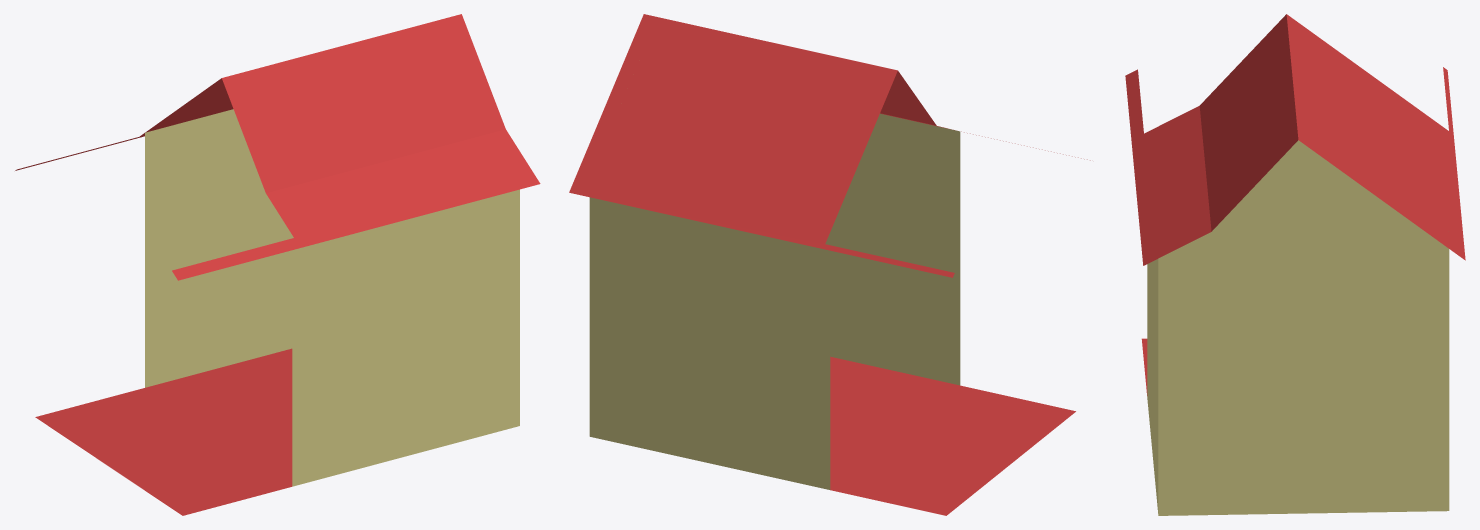
3 views of the same model, side by side, from view 1: azimuth 30°, elevation 25°; view 2: azimuth 150°, elevation 25°; view 3: azimuth 270°, elevation 25° (orthographic). The views are drawn at different scales.
Size of the model in its own units: 14.69 by 10.78 by 13.29.
